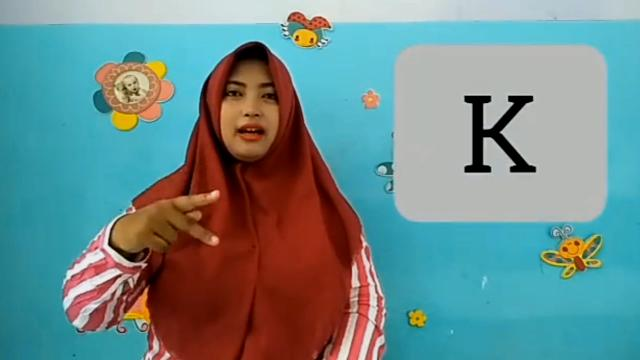K: (125, 190, 222, 256)
